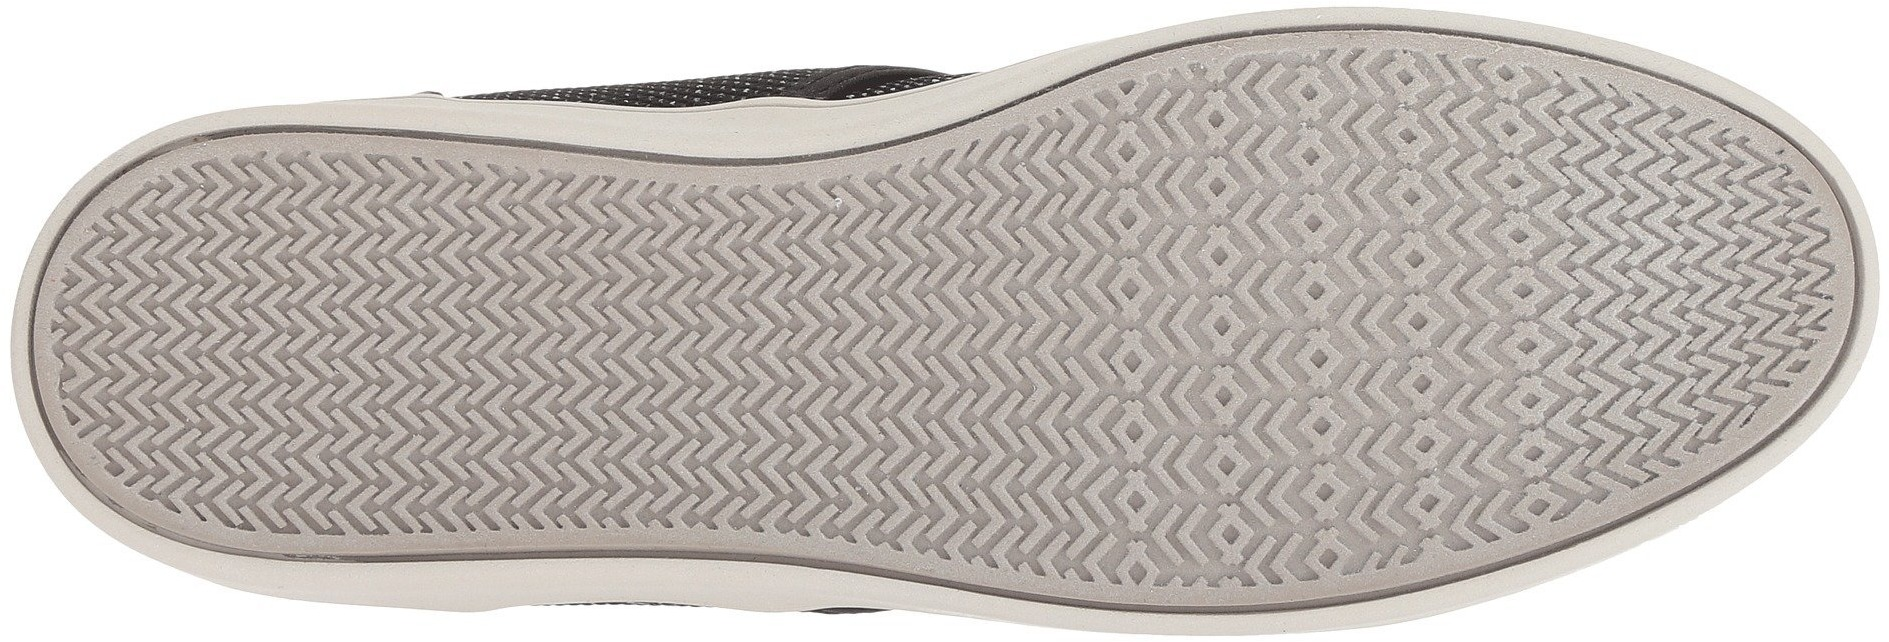chevron: (545, 216, 819, 478), (1146, 131, 1373, 381), (296, 173, 539, 399), (820, 188, 1053, 412), (1538, 132, 1742, 318), (110, 204, 292, 357), (136, 364, 294, 516), (904, 420, 1051, 567), (1569, 324, 1714, 469), (335, 406, 467, 526), (1430, 311, 1522, 402), (1424, 64, 1495, 151), (1723, 331, 1806, 404), (1148, 89, 1216, 157)
exclude: (361, 47, 1002, 114)
quad: (1146, 131, 1373, 381), (1472, 158, 1565, 322), (1487, 331, 1563, 485)
